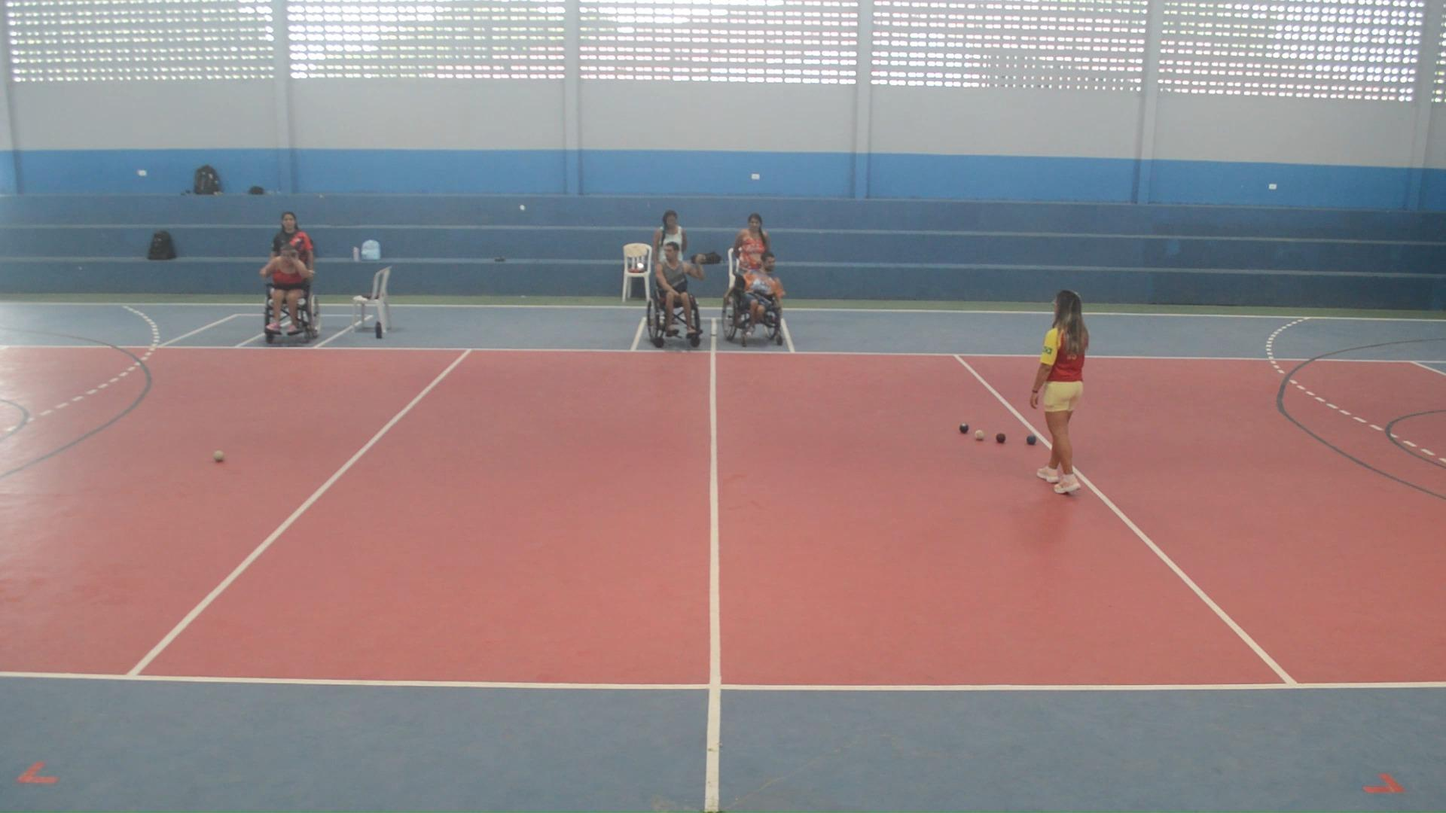blue_ball: (1026, 435, 1037, 446)
red_ball: (995, 433, 1007, 444), (959, 422, 969, 434)
white_ball: (211, 449, 226, 462), (974, 430, 984, 440)
